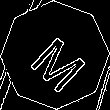M_NE: (21, 21, 89, 89)
